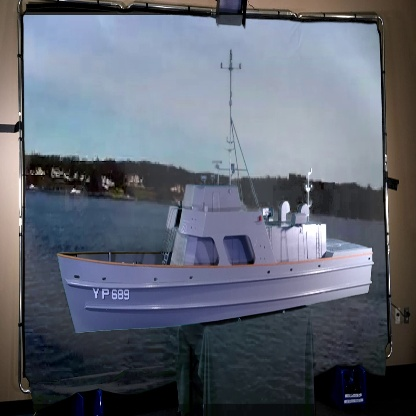YP689: (53, 50, 373, 339)
